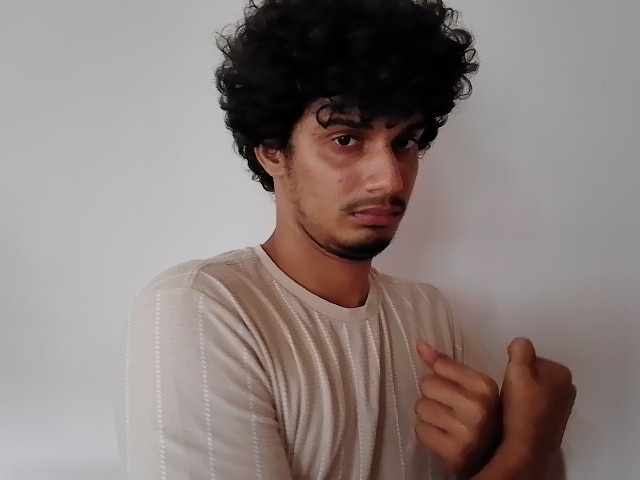love: (399, 335, 587, 468)
